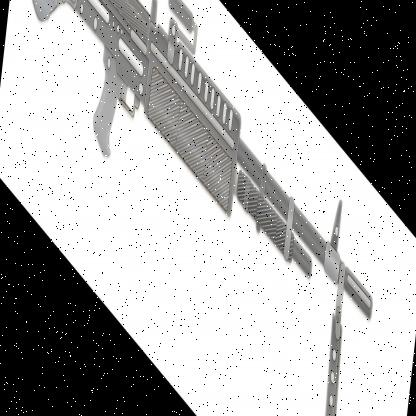rifle: (14, 0, 387, 416)
